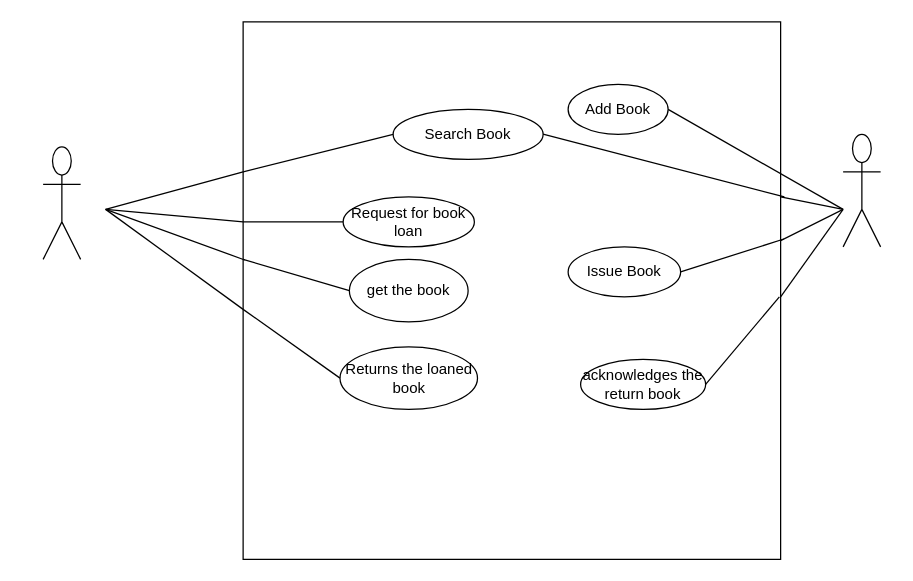
The diagram is 913 pixels wide and 581 high, and some of its shapes have lost their labels. The shapes that lost their labels are listed below. From the top down, each one's box as (x1, y1, x2, y2) in pixels, then its label:
(42, 146, 81, 259): Library User
(842, 133, 881, 247): Librarian
